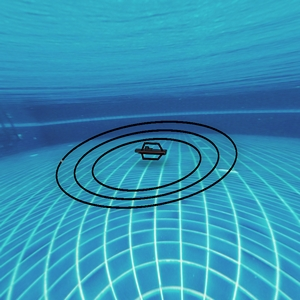submarine: (137, 139, 168, 165)
